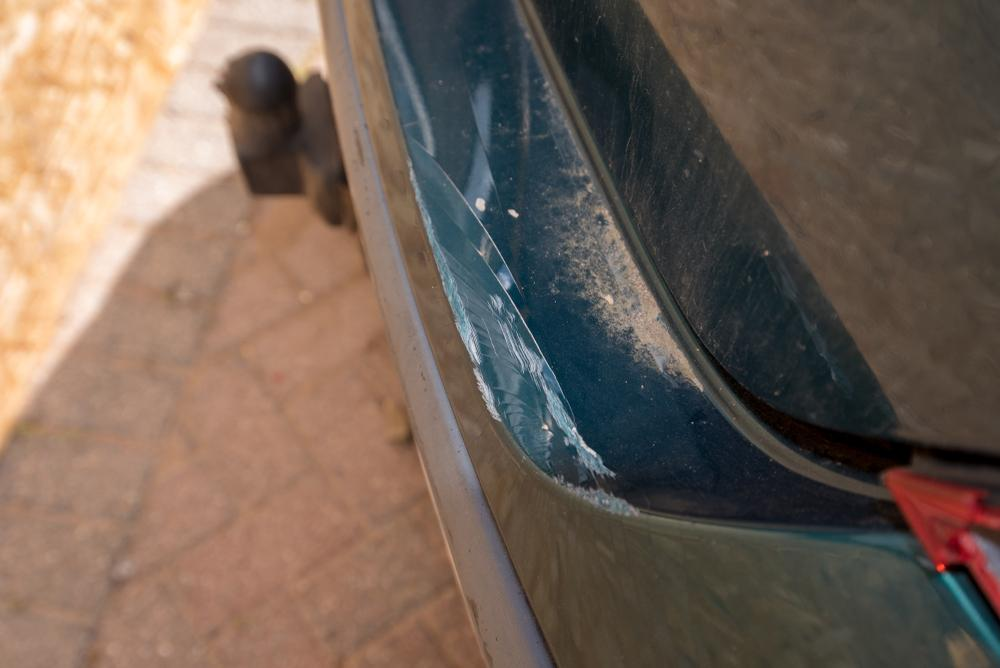scratch: (396, 152, 645, 519)
